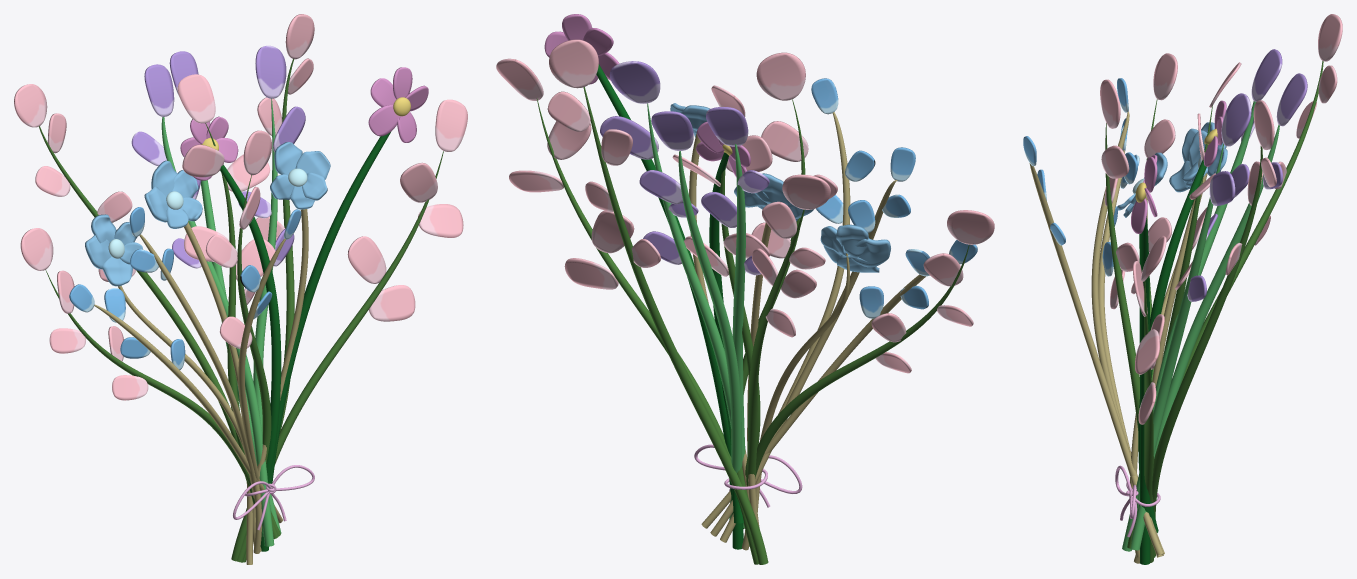
The model's file is flower.glb.
3 renders of one model, left to right at view 1: azimuth 30°, elevation 25°; view 2: azimuth 150°, elevation 25°; view 3: azimuth 270°, elevation 25°, orthographic. The views are drawn at different scales.
Parts seen in each view (by area): view 1: Plane.031_A leaf shader_0; view 2: Plane.031_A leaf shader_0; view 3: Plane.031_A leaf shader_0.
Part boxes in pixels (<box>): Plane.031_A leaf shader_0: <box>14,14,467,564</box>; Plane.031_A leaf shader_0: <box>496,14,994,564</box>; Plane.031_A leaf shader_0: <box>1023,14,1342,564</box>.
Bounding box in the file's own units: 0.35 × 0.3614 × 0.2025.
12 materials, 3 textured.
